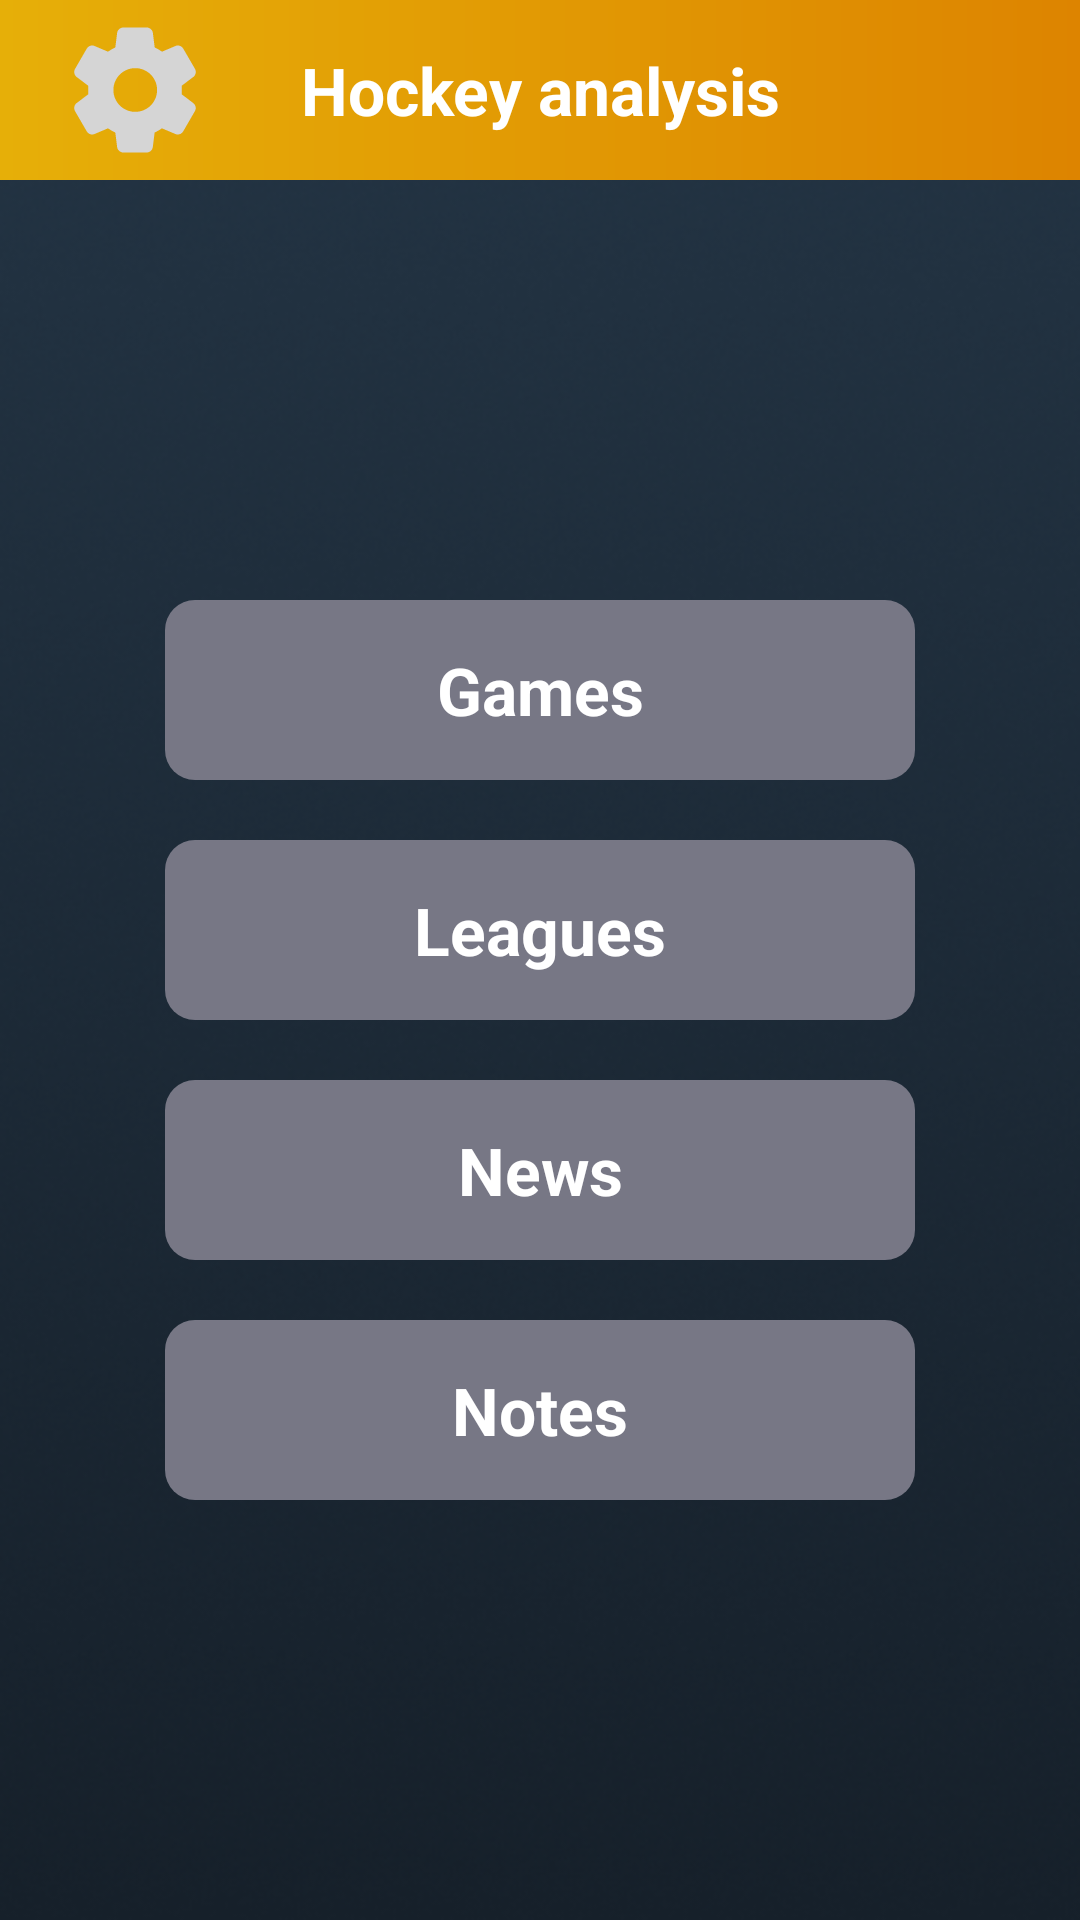

Icon click points for this 1080×1920 phone screenshot, format (x=x, y=y):
settings: (x=135, y=90)
